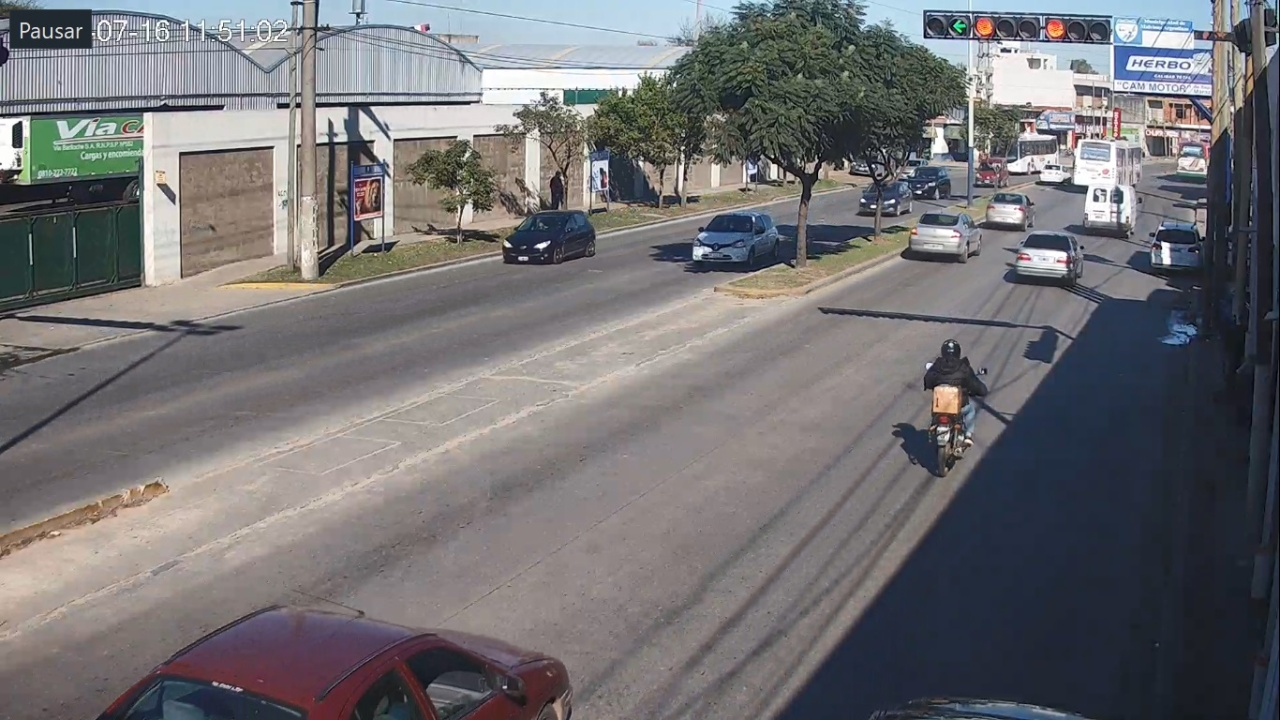car: (92, 605, 573, 720), (1014, 232, 1087, 286), (909, 211, 982, 265), (1083, 182, 1144, 240), (1149, 220, 1205, 276), (987, 191, 1036, 231)
motorcycle: (924, 361, 988, 476)
traffic light: (972, 10, 1111, 44)
